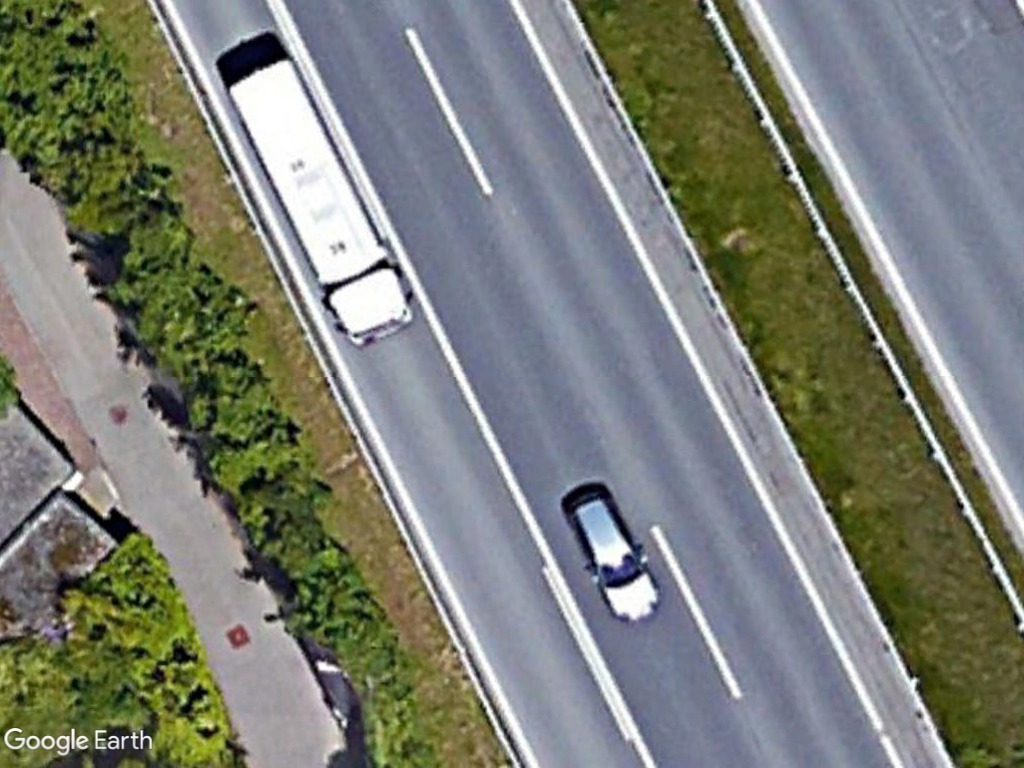car: (560, 484, 666, 626)
truck: (224, 52, 419, 347)
